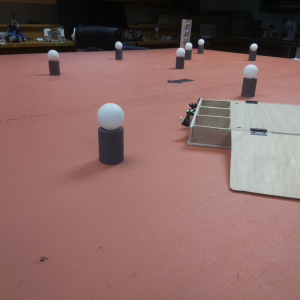corner: (181, 19, 192, 49)
obstacle: (98, 102, 125, 170), (241, 65, 258, 97), (48, 49, 62, 75), (175, 48, 186, 70), (248, 42, 260, 61), (114, 41, 125, 60), (198, 38, 206, 53), (186, 43, 194, 58)
side: (180, 96, 201, 144)
slope: (228, 128, 300, 199)
start: (166, 76, 193, 85)
